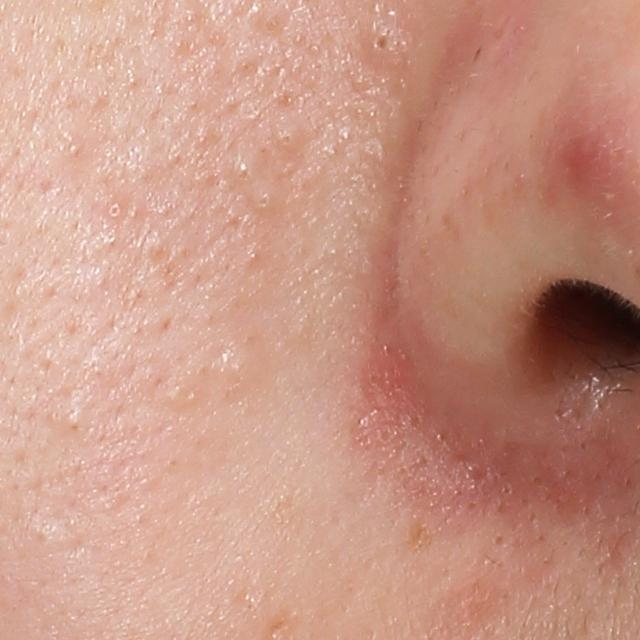comedo: (359, 19, 404, 68), (230, 150, 260, 186), (271, 122, 306, 152), (251, 184, 278, 216), (101, 192, 127, 223), (59, 406, 84, 432)
